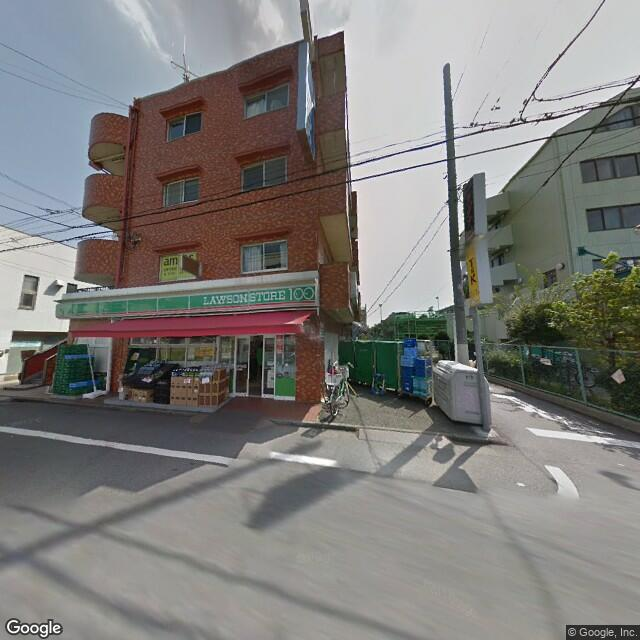lawson: (97, 277, 321, 321)
